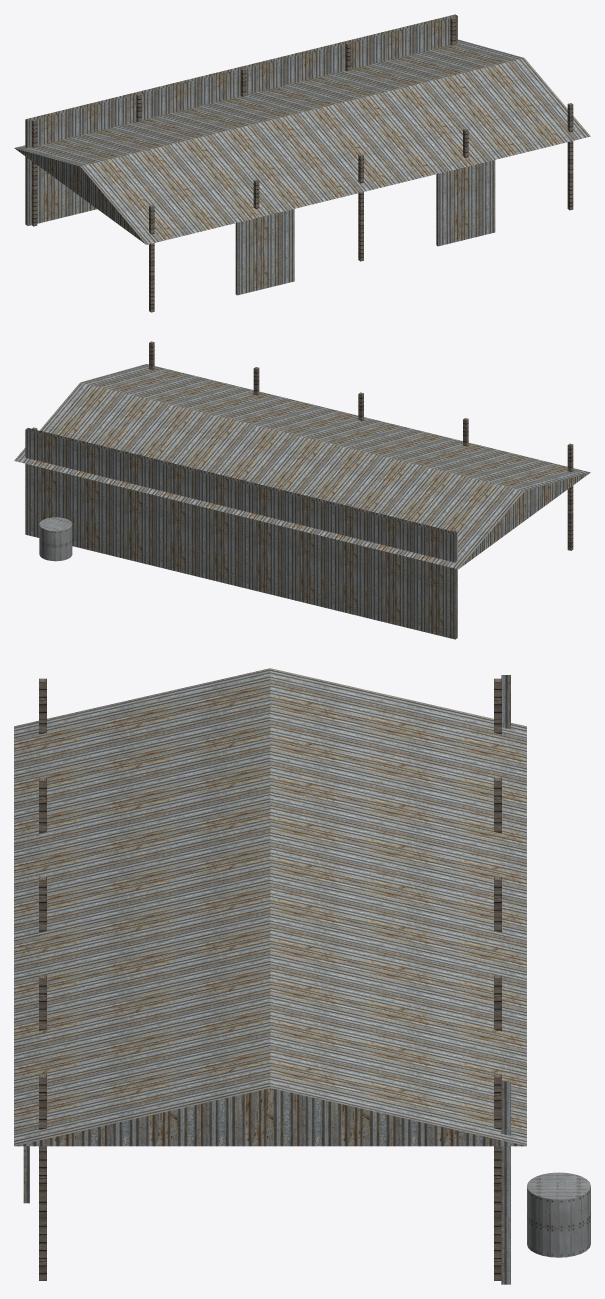
File: equipment-shed_lod0.gltf
3 renders of one model, top to bottom at view 1: azimuth 30°, elevation 25°; view 2: azimuth 150°, elevation 25°; view 3: azimuth 270°, elevation 25°, orthographic. The views are drawn at different scales.
Parts seen in each view (by area): view 1: equipment-shed_roof, equipment-shed_walls, equipment-shed__sliding_door_b, equipment-shed__sliding_door_a, equipment-shed_posts; view 2: equipment-shed_roof, equipment-shed_walls, equipment-shed_posts, equipment-shed__fuel_tank; view 3: equipment-shed_roof, equipment-shed_posts, equipment-shed__fuel_tank, equipment-shed_walls.
Part boxes in pixels (x1=…): equipment-shed_roof: x1=14, y1=39, x2=590, y2=244; equipment-shed_walls: x1=25, y1=14, x2=457, y2=225; equipment-shed__sliding_door_b: x1=436, y1=160, x2=495, y2=246; equipment-shed__sliding_door_a: x1=235, y1=209, x2=294, y2=295; equipment-shed_posts: x1=31, y1=17, x2=573, y2=312; equipment-shed_roof: x1=14, y1=364, x2=590, y2=569; equipment-shed_walls: x1=25, y1=428, x2=457, y2=639; equipment-shed_posts: x1=31, y1=341, x2=573, y2=550; equipment-shed__fuel_tank: x1=39, y1=517, x2=72, y2=561; equipment-shed_roof: x1=14, y1=668, x2=526, y2=1146; equipment-shed_posts: x1=39, y1=678, x2=501, y2=1280; equipment-shed__fuel_tank: x1=527, y1=1172, x2=590, y2=1257; equipment-shed_walls: x1=501, y1=675, x2=510, y2=1284.
Size of the model in its own units: 31 by 7 by 18.
